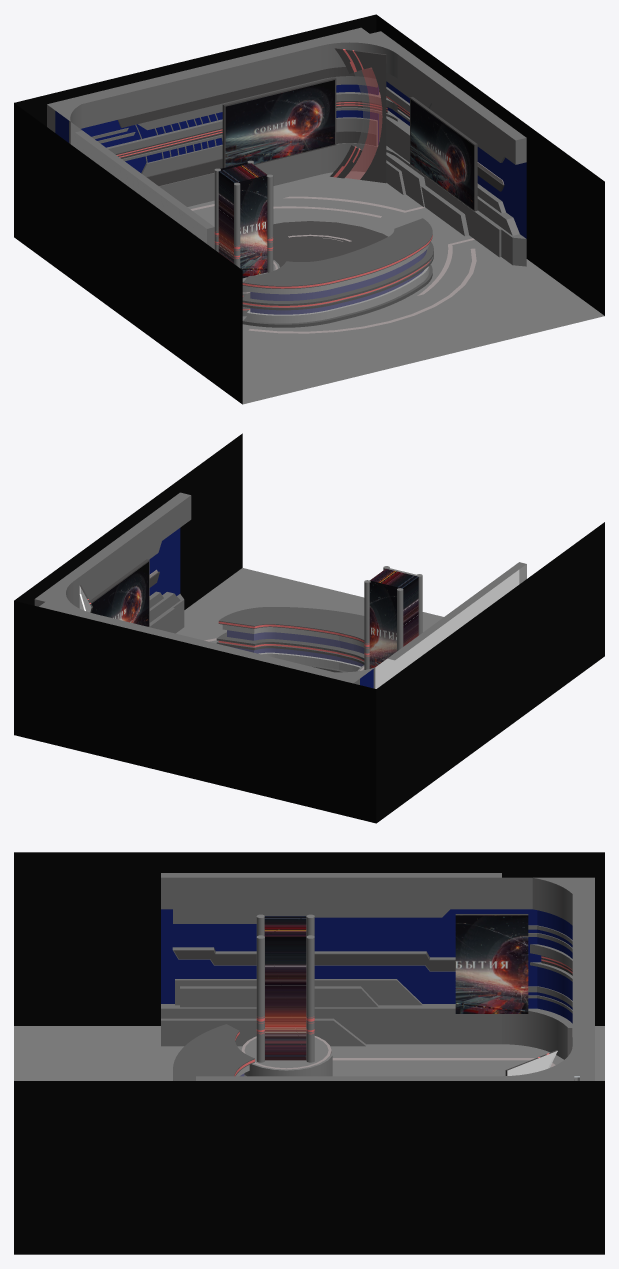
The picture shows the model from 3 angles, top to bottom: view 1: azimuth 30°, elevation 25°; view 2: azimuth 150°, elevation 25°; view 3: azimuth 270°, elevation 25°; orthographic projection. The views are drawn at different scales.
Visible parts, largest first — view 1: Material2 (×5), Material3 (×11); view 2: Material2 (×4), Material3 (×7); view 3: Material2 (×5), Material3 (×5).
Part boxes in pixels (x1,y1,x2,y2): Material2 (×5): (14,14,604,404); Material3 (×11): (55,48,604,404); Material2 (×4): (14,433,604,823); Material3 (×7): (87,528,443,688); Material2 (×5): (14,852,604,1254); Material3 (×5): (14,909,604,1080).
Size of the model in its own units: 308 by 109 by 336.
Materials: 17 (1 with a texture image).
